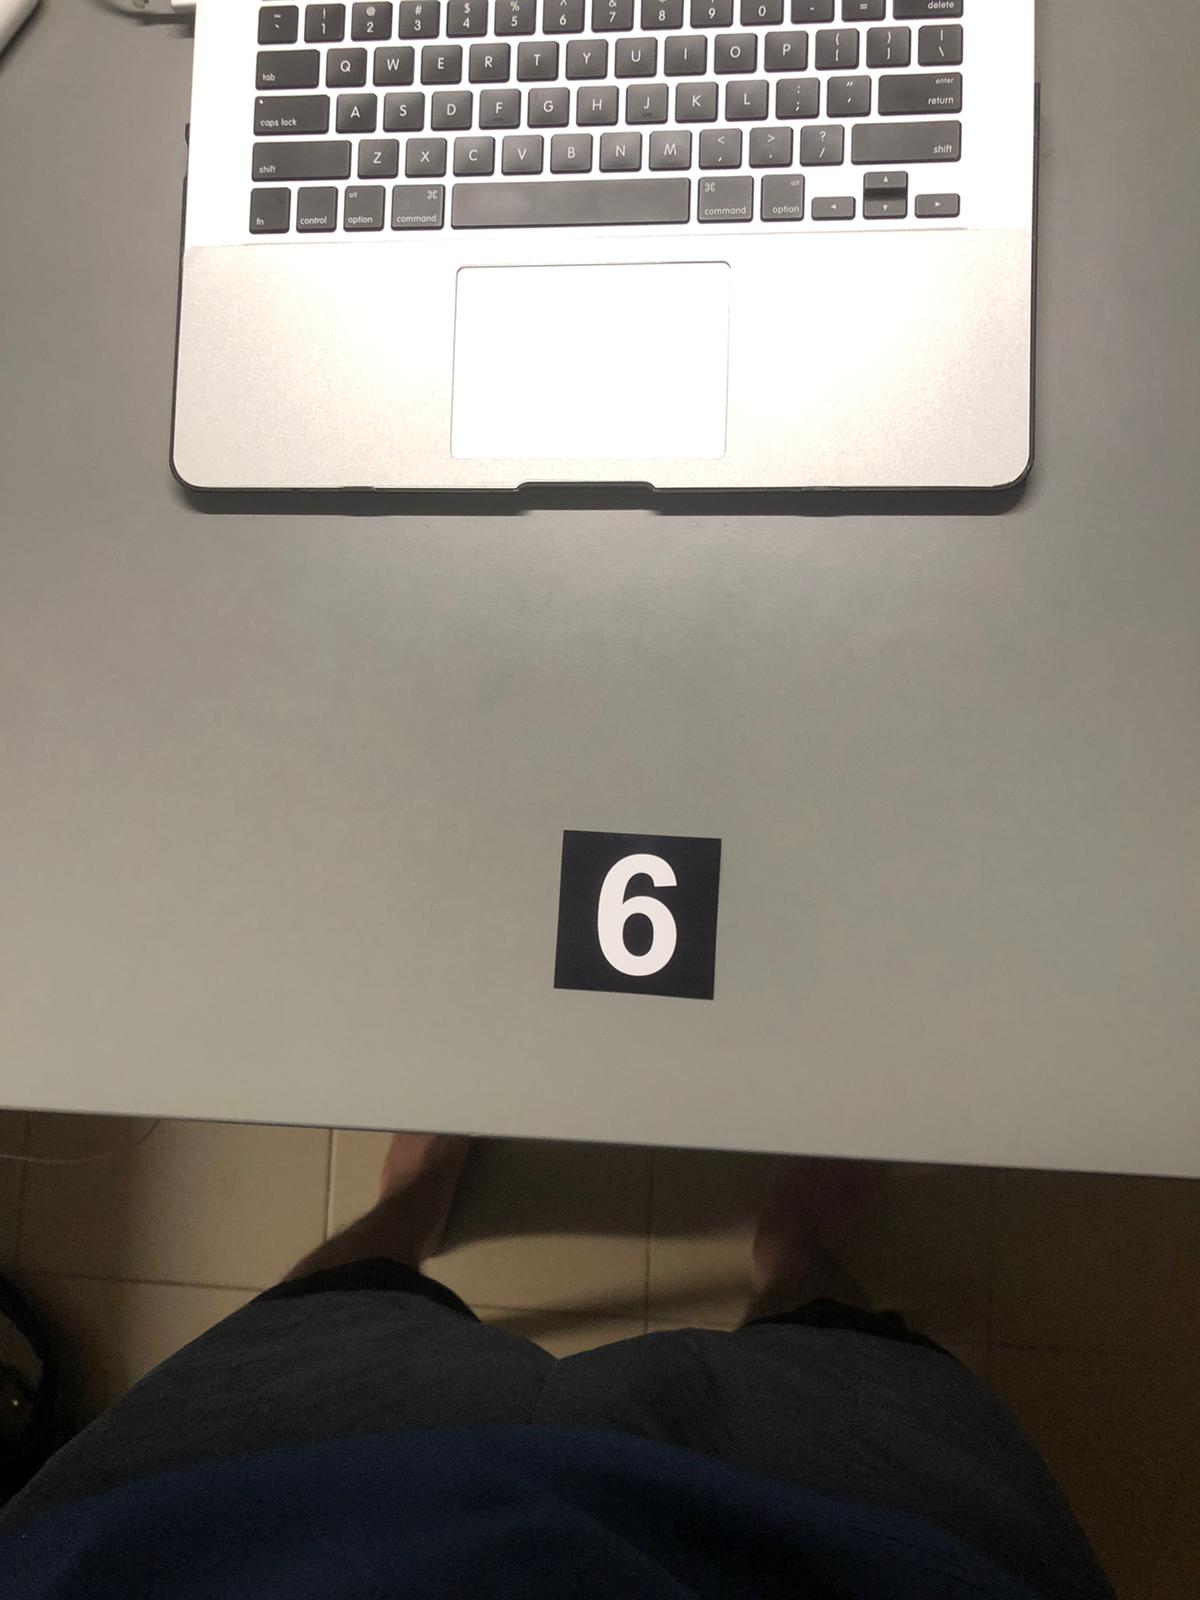Number 6: (563, 837, 715, 991)
